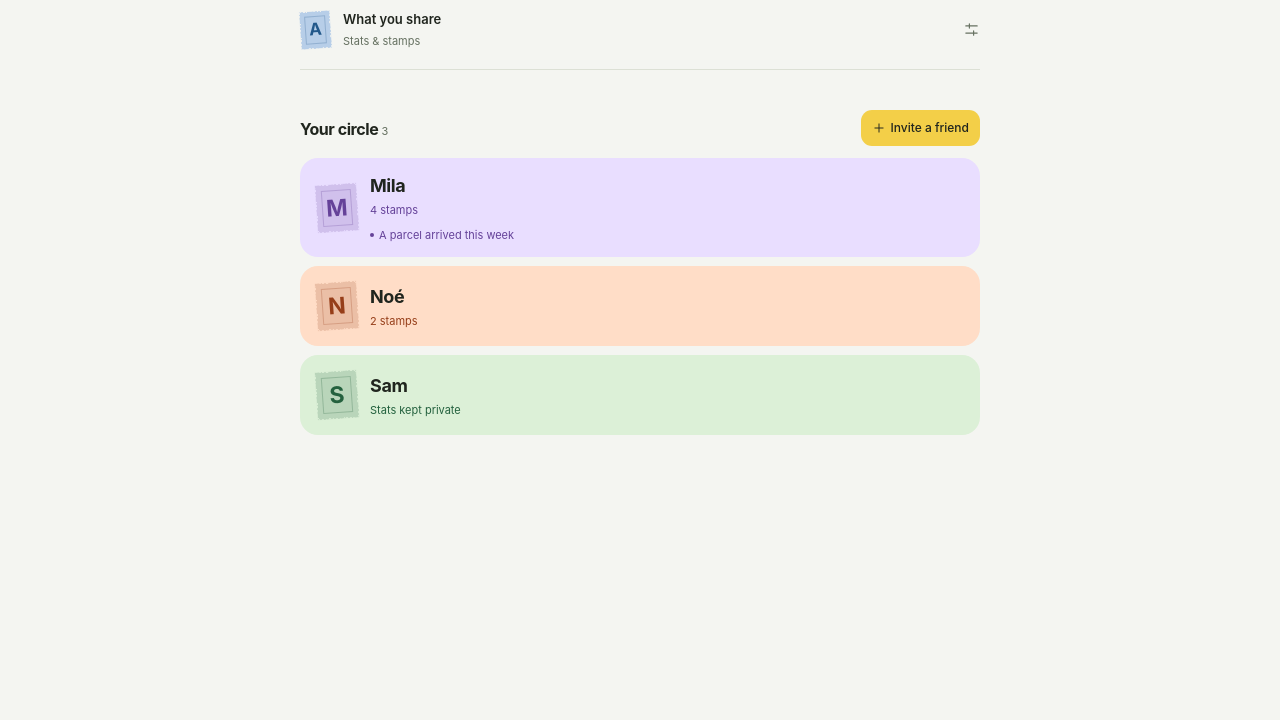
Scenario: Friends › keeps the count and link after a failed cancellation, then allows a retry
Click the button "Invite a friend". click: {"x": 920, "y": 128}
box: [860,110,980,146]
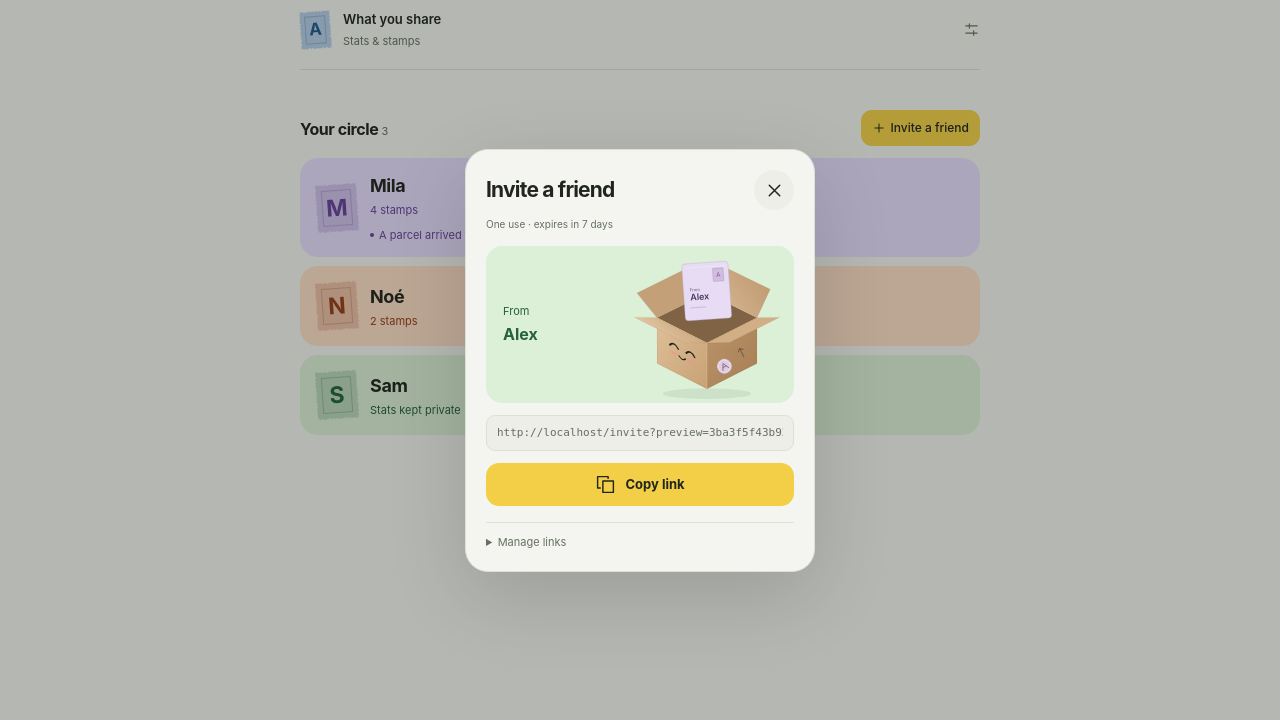
Expected: the field named "Invitation link" is shown, [486,415,794,451]
Click the heading "Manage links". click: {"x": 532, "y": 542}
box: [498,535,566,549]
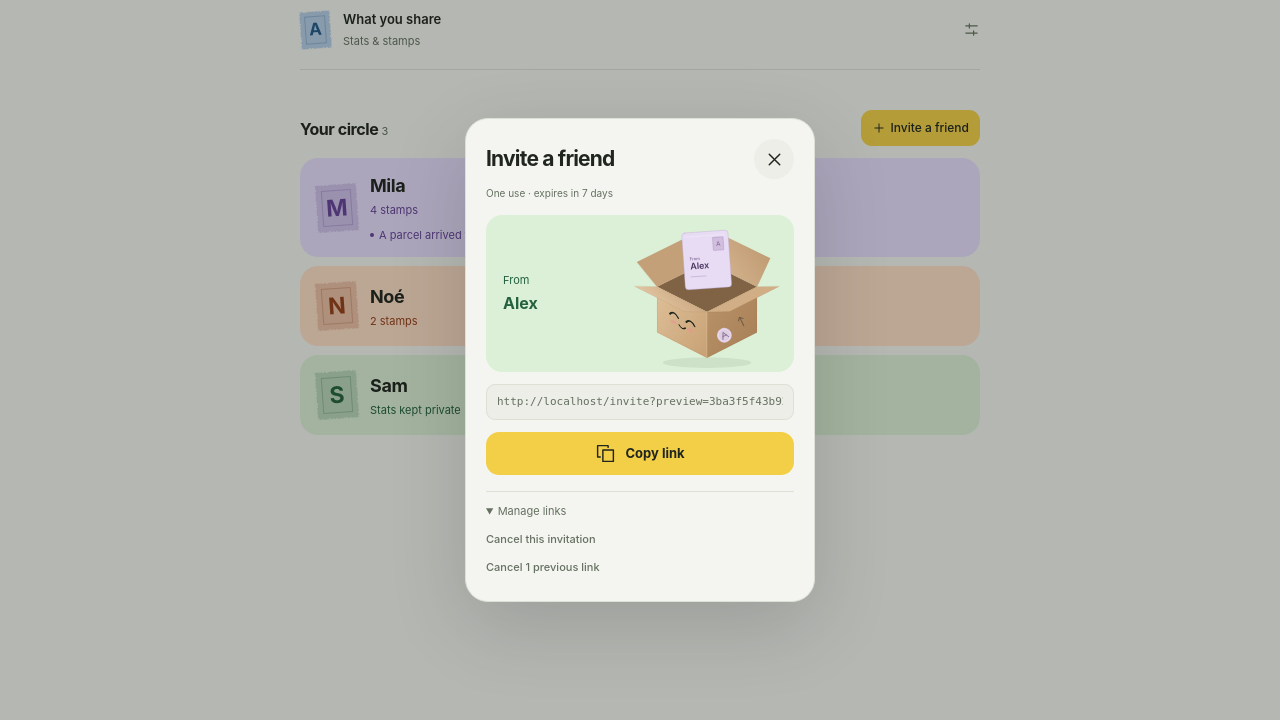
Click the button "Cancel 1 previous link". click: {"x": 543, "y": 567}
box: [486,553,600,581]
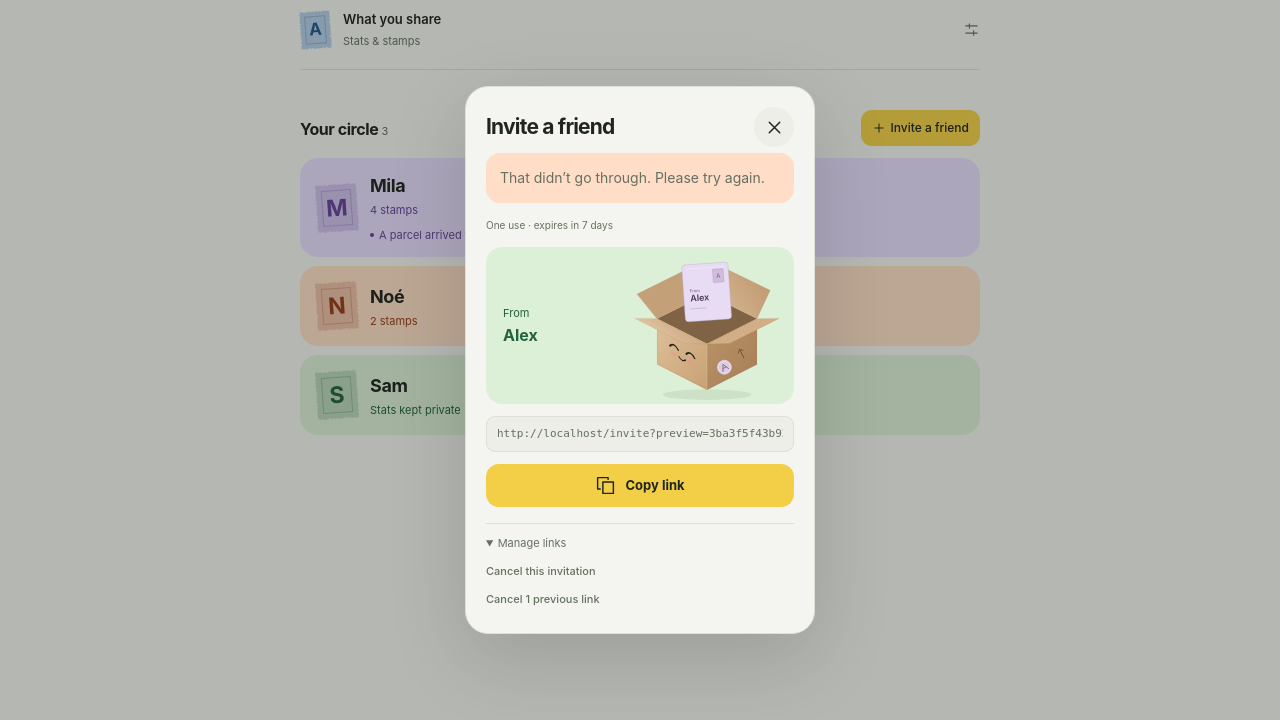
Expected: the text "Previous invitations cancelled" is not shown
Expected: the button "Cancel 1 previous link" is enabled
Expected: the message "That didn’t go through. Please try again." is shown, [486,153,794,203]
Click the button "Cancel 1 previous link". click: {"x": 543, "y": 599}
box: [486,585,600,613]
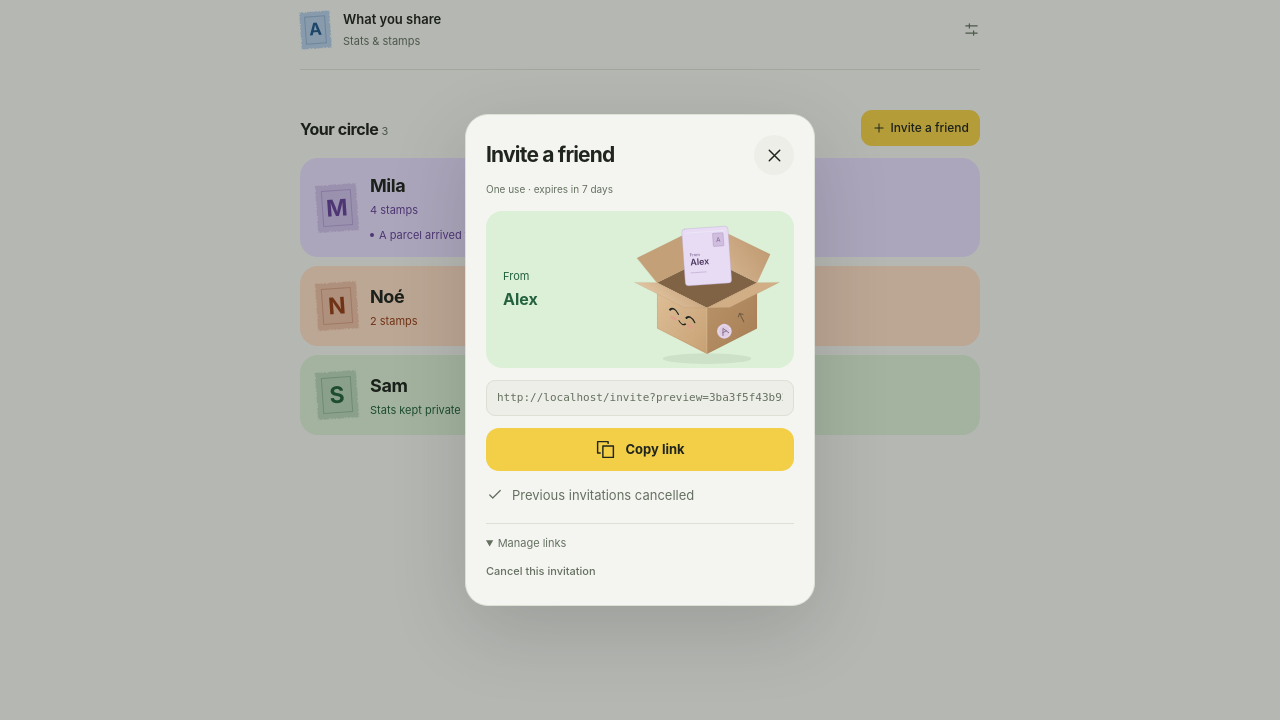
Expected: the message reads "Previous invitations cancelled", [512,487,694,503]
